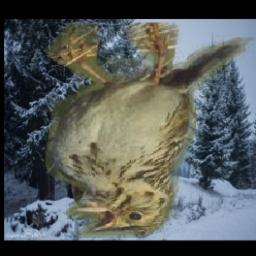Sparrow: (45, 23, 254, 239)
